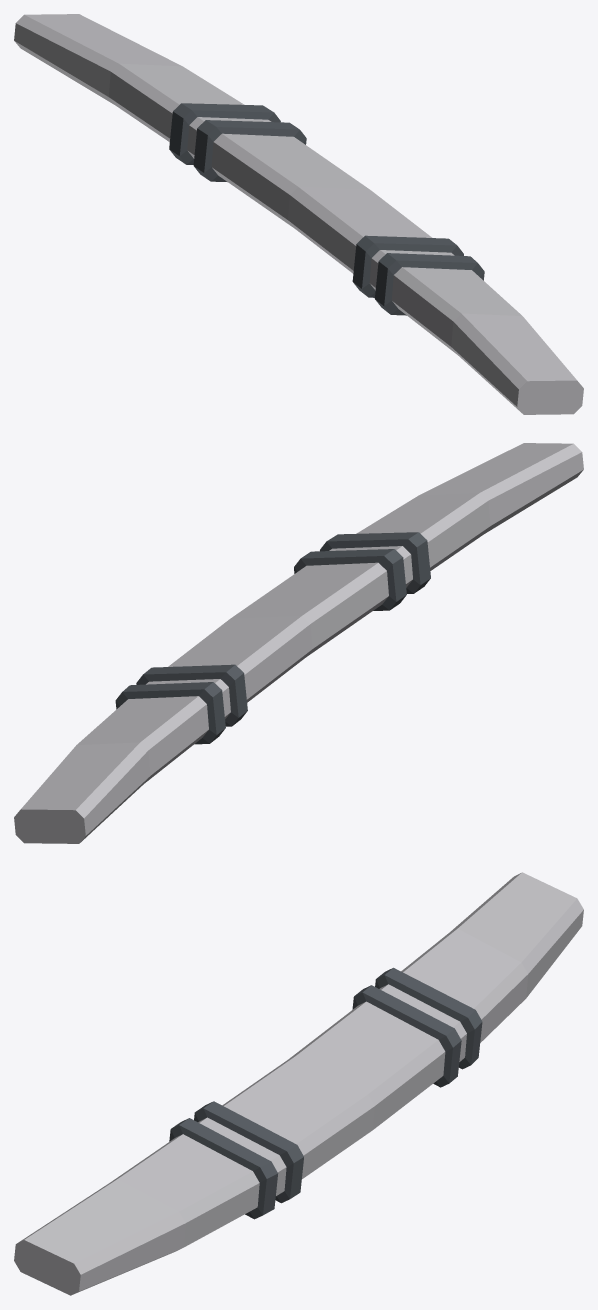
File: Mothership_02_Glider_Right.fbx
3 renders of one model, top to bottom at view 1: azimuth 30°, elevation 25°; view 2: azimuth 150°, elevation 25°; view 3: azimuth 330°, elevation 25°, orthographic.
Visible parts, largest first — view 1: Mothership_02_Glider_Right; view 2: Mothership_02_Glider_Right; view 3: Mothership_02_Glider_Right.
Boxes of the visible parts, bbox=[...] form: Mothership_02_Glider_Right: bbox=[14, 14, 583, 414]; Mothership_02_Glider_Right: bbox=[14, 443, 583, 843]; Mothership_02_Glider_Right: bbox=[14, 872, 583, 1295].
Size of the model in its own units: 292 by 182 by 2166.
Materials: 1 (1 with a texture image).
